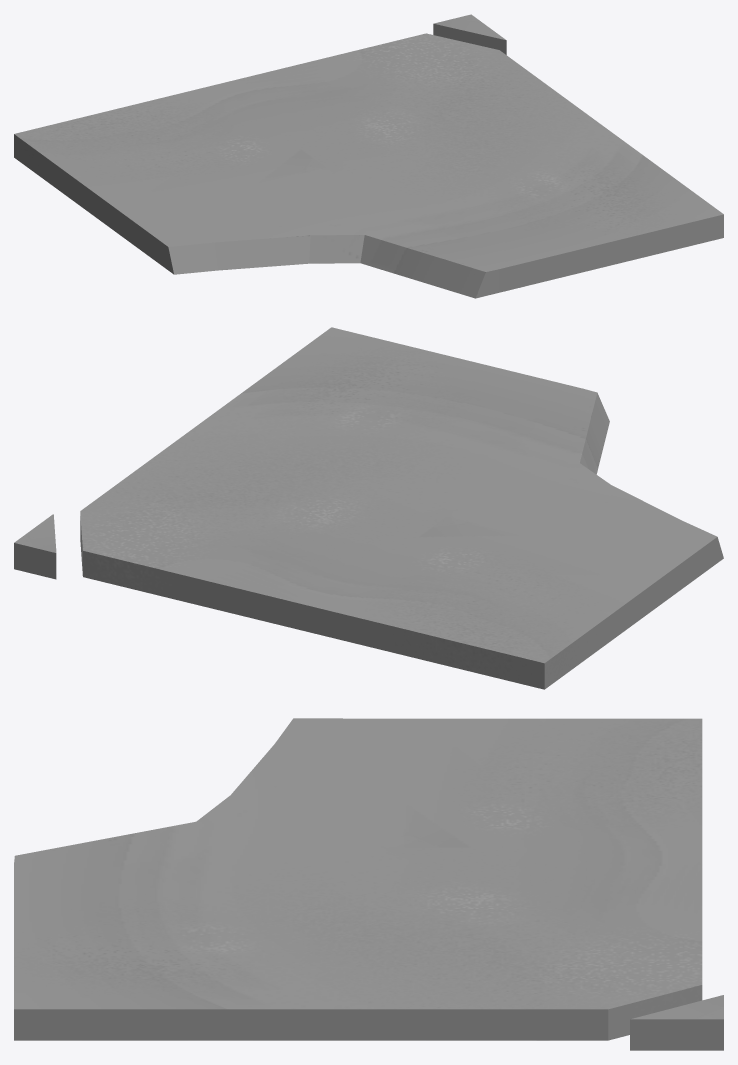
Rendered from Rock_tile_1.fbx.
3 views of the same model, one above another, from view 1: azimuth 30°, elevation 25°; view 2: azimuth 150°, elevation 25°; view 3: azimuth 270°, elevation 25° (orthographic). The views are drawn at different scales.
Parts seen in each view (by area): view 1: Rock_tile_1; view 2: Rock_tile_1; view 3: Rock_tile_1.
Part boxes in pixels (bbox=[...]): Rock_tile_1: bbox=[14, 14, 723, 298]; Rock_tile_1: bbox=[14, 327, 723, 689]; Rock_tile_1: bbox=[14, 718, 723, 1050].
Bounding box in the file's own units: 0.5171 × 0.025 × 0.5158.
